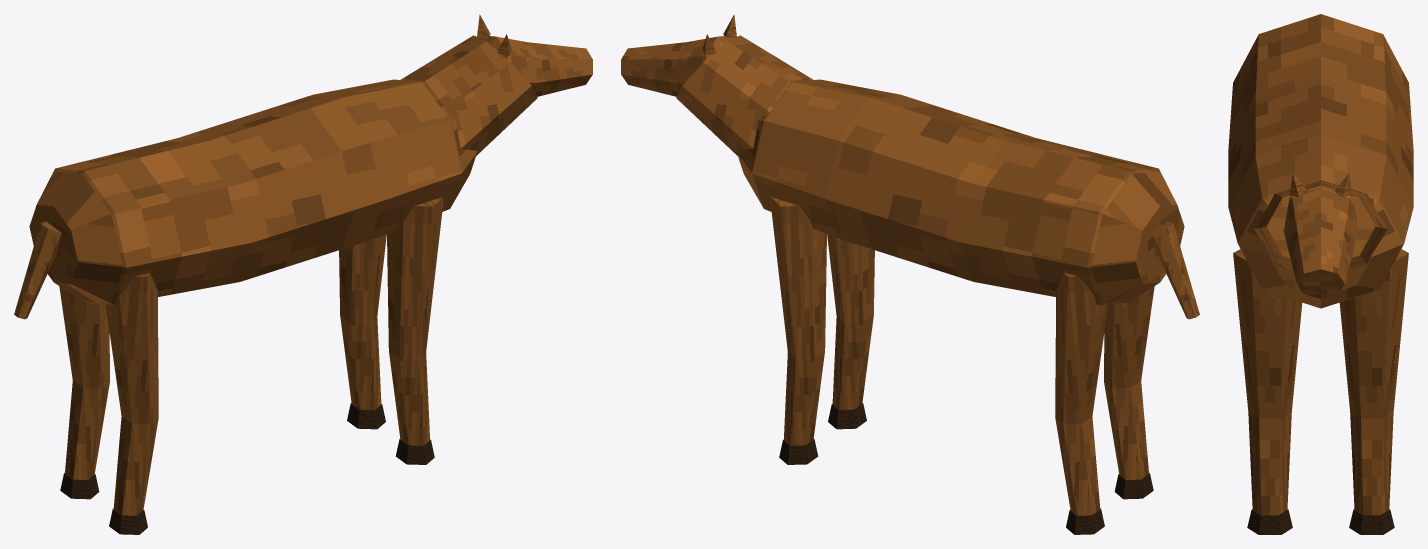
Rendered from hiena.glb.
3 renders of one model, left to right at view 1: azimuth 30°, elevation 25°; view 2: azimuth 150°, elevation 25°; view 3: azimuth 270°, elevation 25°, orthographic. The views are drawn at different scales.
Parts seen in each view (by area): view 1: cuerpo, pata_delantera_der, pata_trasera_der, cuello, pata_trasera_izq, pata_delantera_izq, cabeza, cola, pezuna_delantera_der, pezuna_trasera_der, pezuna_delantera_izq, pezuna_trasera_izq; view 2: cuerpo, pata_delantera_izq, pata_trasera_izq, cuello, pata_trasera_der, pata_delantera_der, cabeza, cola, pezuna_delantera_izq, pezuna_trasera_izq, pezuna_delantera_der, pezuna_trasera_der; view 3: cuerpo, pata_delantera_izq, pata_delantera_der, cabeza, cuello, pezuna_delantera_izq, pezuna_delantera_der, orejas.
Part boxes in pixels (x1=…): cuerpo: x1=29, y1=79, x2=477, y2=304; pata_delantera_der: x1=387, y1=197, x2=443, y2=445; pata_trasera_der: x1=105, y1=273, x2=158, y2=515; cuello: x1=400, y1=35, x2=537, y2=155; pata_trasera_izq: x1=59, y1=286, x2=109, y2=479; pata_delantera_izq: x1=339, y1=234, x2=386, y2=409; cabeza: x1=480, y1=36, x2=592, y2=96; cola: x1=14, y1=221, x2=61, y2=319; pezuna_delantera_der: x1=395, y1=439, x2=434, y2=464; pezuna_trasera_der: x1=109, y1=508, x2=147, y2=534; pezuna_delantera_izq: x1=347, y1=403, x2=385, y2=429; pezuna_trasera_izq: x1=60, y1=473, x2=99, y2=499; cuerpo: x1=736, y1=79, x2=1184, y2=304; pata_delantera_izq: x1=770, y1=197, x2=826, y2=445; pata_trasera_izq: x1=1055, y1=273, x2=1108, y2=515; cuello: x1=676, y1=35, x2=813, y2=155; pata_trasera_der: x1=1104, y1=286, x2=1154, y2=479; pata_delantera_der: x1=827, y1=234, x2=874, y2=409; cabeza: x1=621, y1=36, x2=733, y2=96; cola: x1=1152, y1=221, x2=1199, y2=319; pezuna_delantera_izq: x1=779, y1=439, x2=818, y2=464; pezuna_trasera_izq: x1=1066, y1=508, x2=1104, y2=534; pezuna_delantera_der: x1=828, y1=403, x2=866, y2=429; pezuna_trasera_der: x1=1114, y1=473, x2=1153, y2=499; cuerpo: x1=1228, y1=14, x2=1413, y2=308; pata_delantera_izq: x1=1339, y1=249, x2=1408, y2=515; pata_delantera_der: x1=1233, y1=249, x2=1302, y2=515; cabeza: x1=1284, y1=188, x2=1357, y2=298; cuello: x1=1254, y1=180, x2=1387, y2=269; pezuna_delantera_izq: x1=1349, y1=509, x2=1394, y2=534; pezuna_delantera_der: x1=1247, y1=509, x2=1292, y2=534; orejas: x1=1289, y1=173, x2=1352, y2=196.
Bounding box in the file's own units: 1.3 × 0.85 × 0.35.
Materials: 1 (1 with a texture image).
